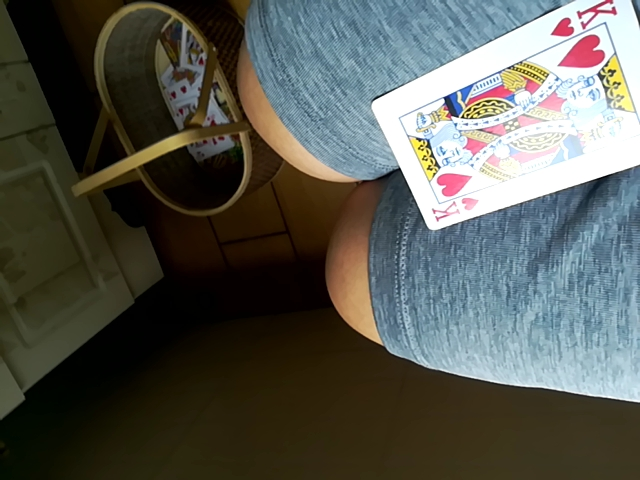hx k: (366, 0, 638, 230)
